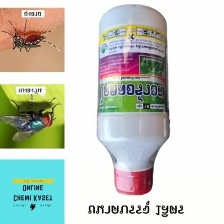insecticide: (95, 1, 171, 199)
